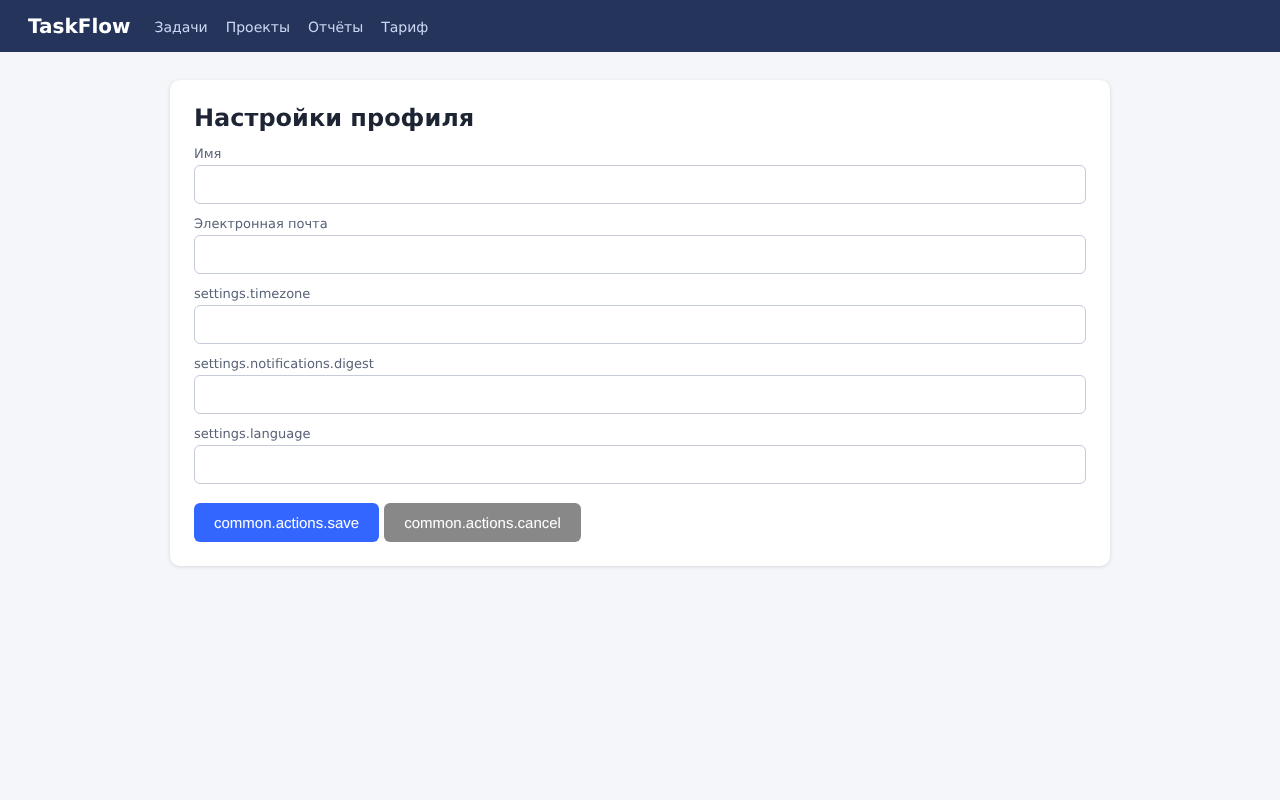DEFECT_AREA: (194, 358, 374, 371), (405, 517, 560, 529), (214, 517, 359, 529), (194, 288, 310, 301), (194, 428, 310, 441)
UI_ELEMENT: (384, 503, 581, 542), (194, 503, 379, 542)
